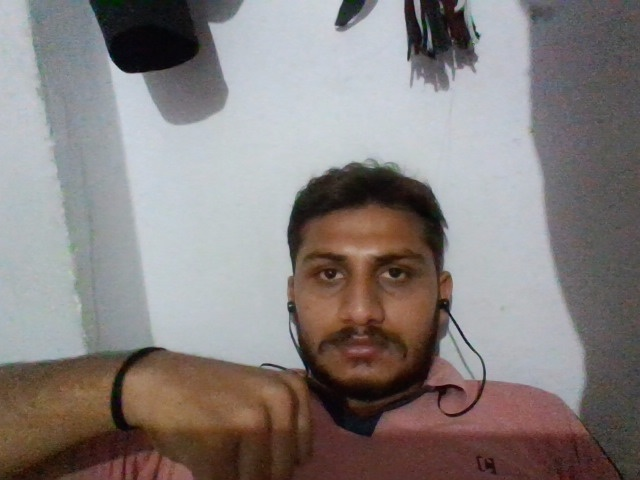Yes: (103, 316, 332, 480)
